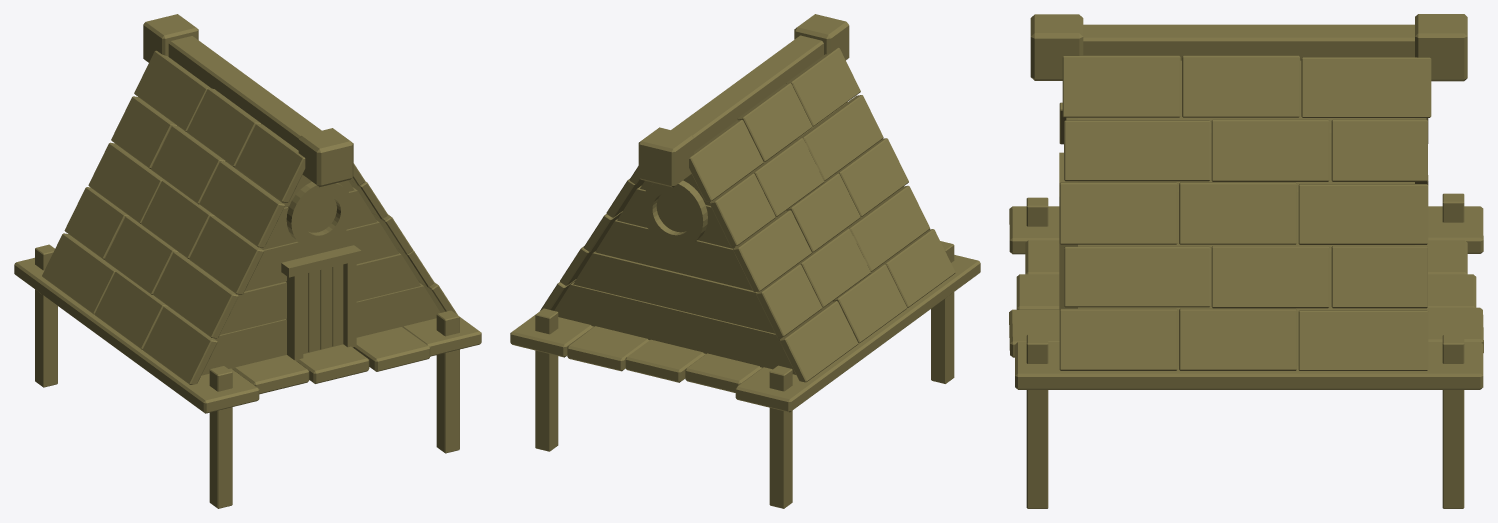
File: woodHouse.fbx
The picture shows the model from 3 angles, left to right: view 1: azimuth 30°, elevation 25°; view 2: azimuth 150°, elevation 25°; view 3: azimuth 270°, elevation 25°; orthographic projection. The views are drawn at different scales.
Parts seen in each view (by area): view 1: Cube.051; view 2: Cube.051; view 3: Cube.051.
Part boxes in pixels (box(x1,y1,x2,y2)): Cube.051: box(14, 14, 481, 508); Cube.051: box(510, 14, 980, 508); Cube.051: box(1009, 14, 1483, 508).
Bounding box in the file's own units: 366 × 415 × 433.
